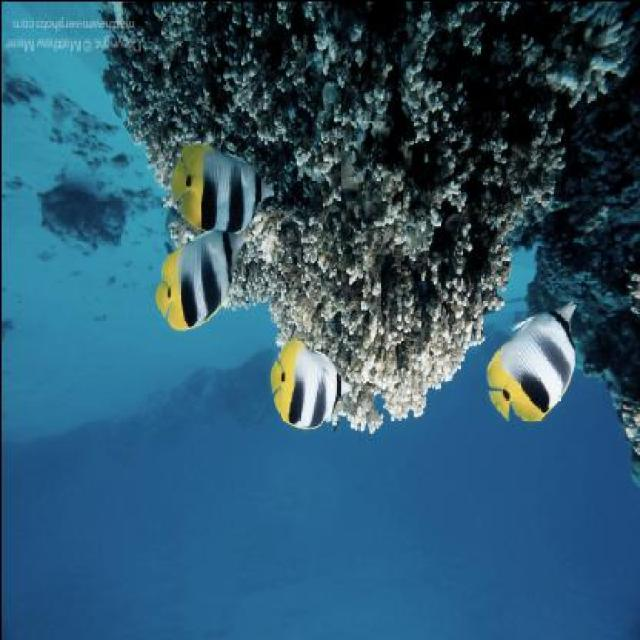ButterflyFish: (485, 295, 578, 424), (158, 229, 252, 330), (173, 140, 275, 232), (272, 338, 356, 432)
